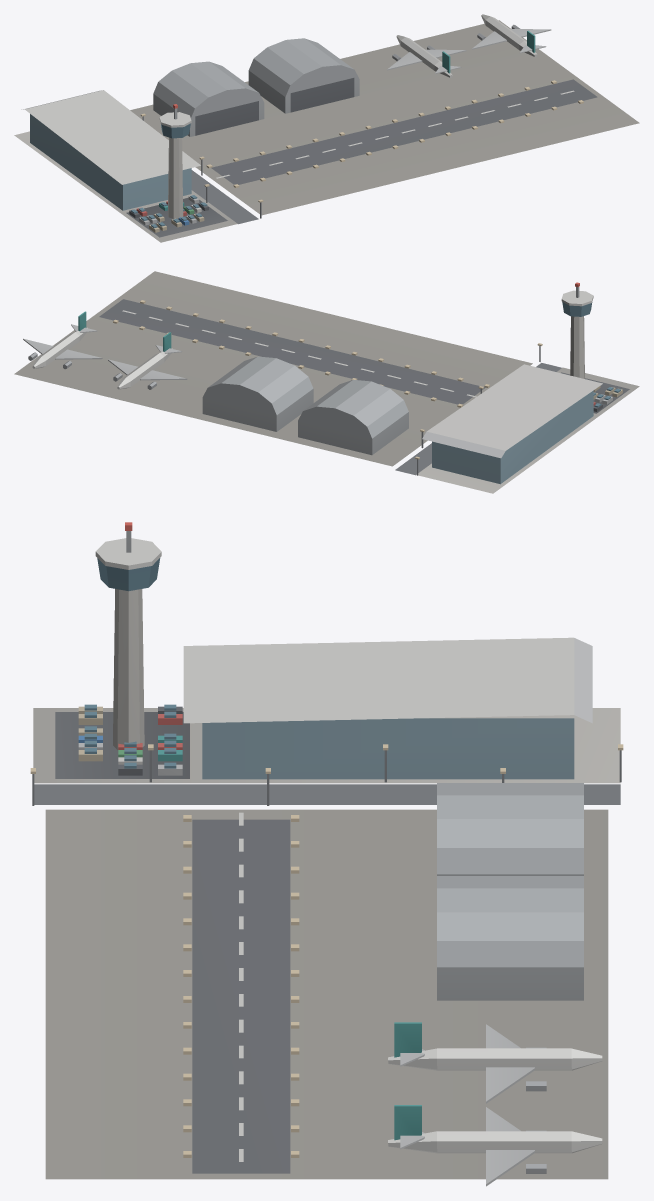
File: district_airport_flats.glb
3 renders of one model, top to bottom at view 1: azimuth 30°, elevation 25°; view 2: azimuth 150°, elevation 25°; view 3: azimuth 270°, elevation 25°, orthographic. The views are drawn at different scales.
Visible parts, largest first — view 1: district_airport_flats; view 2: district_airport_flats; view 3: district_airport_flats.
Boxes of the visible parts, x1,y1,x2,y2 form: district_airport_flats: (14,14,639,242); district_airport_flats: (14,271,639,493); district_airport_flats: (30,522,623,1186).
Size of the model in its own units: 191 by 40.15 by 96.9.
